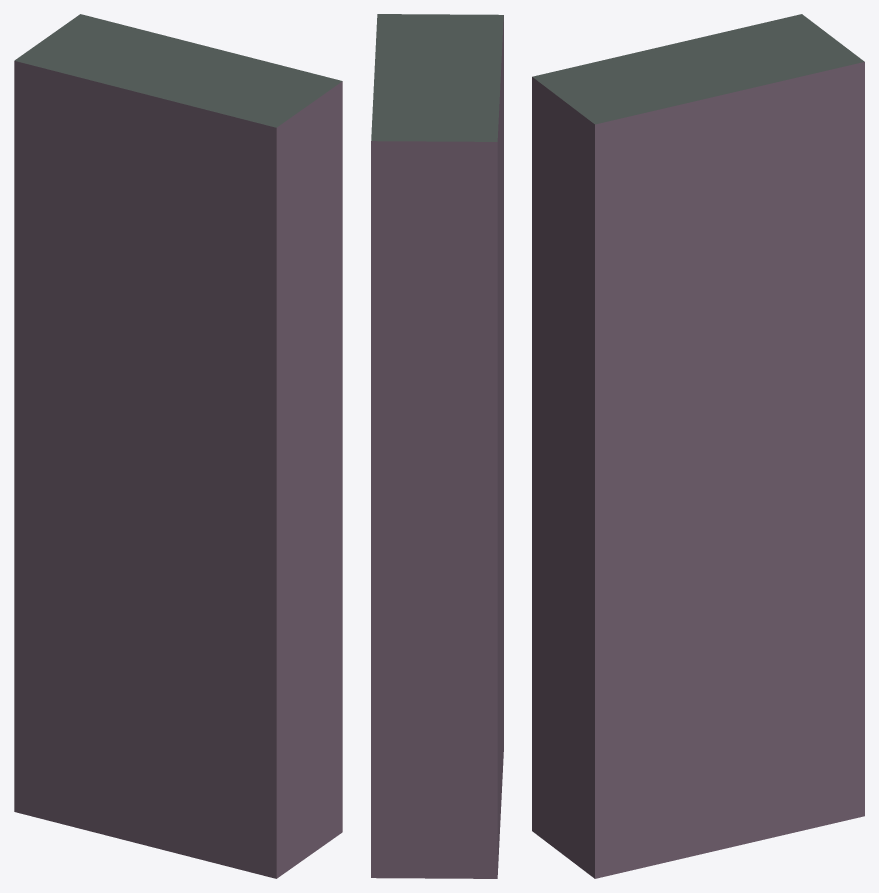
The model's file is nyc-1090597-0.glb.
3 views of the same model, side by side, from view 1: azimuth 30°, elevation 25°; view 2: azimuth 150°, elevation 25°; view 3: azimuth 270°, elevation 25° (orthographic). The views are drawn at different scales.
Visible parts, largest first — view 1: nyc-1090597-0; view 2: nyc-1090597-0; view 3: nyc-1090597-0.
Boxes of the visible parts, x1,y1,x2,y2 form: nyc-1090597-0: [14, 14, 342, 878]; nyc-1090597-0: [371, 14, 503, 878]; nyc-1090597-0: [532, 14, 864, 878].
Size of the model in its own units: 24.62 by 78.33 by 31.31.
